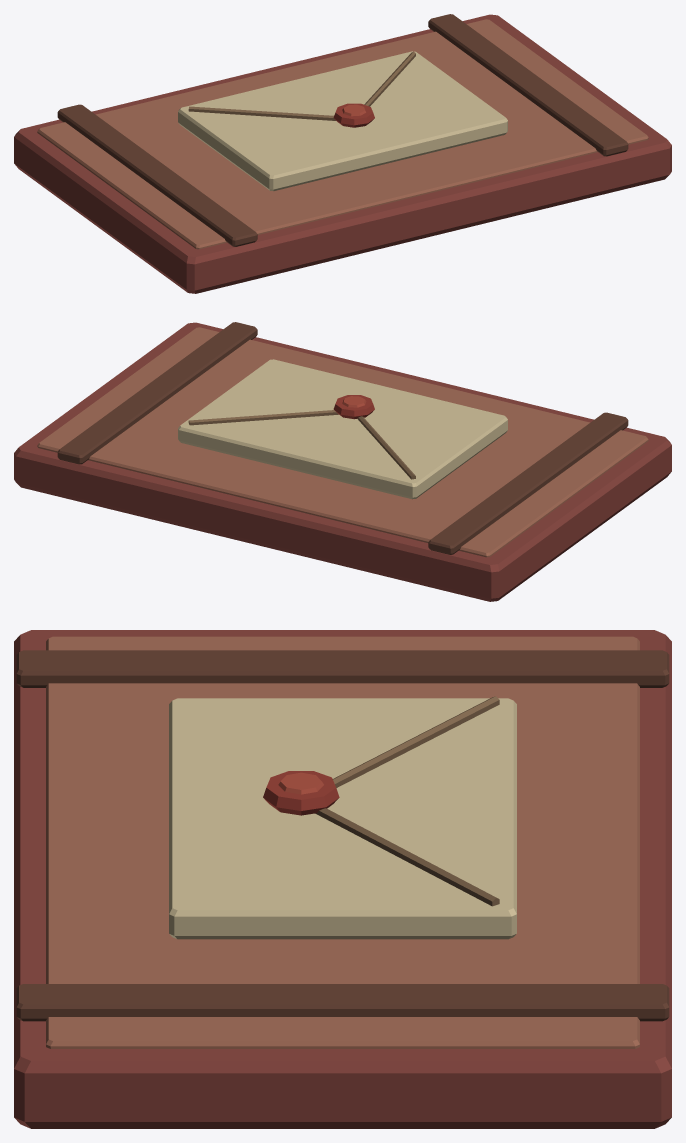
The model's file is post_case_lid.glb.
3 views of the same model, one above another, from view 1: azimuth 30°, elevation 25°; view 2: azimuth 150°, elevation 25°; view 3: azimuth 270°, elevation 25° (orthographic). The views are drawn at different scales.
Parts seen in each view (by area): view 1: post_case_lid; view 2: post_case_lid; view 3: post_case_lid.
Part boxes in pixels (<box>): post_case_lid: <box>14,14,671,293</box>; post_case_lid: <box>14,322,671,601</box>; post_case_lid: <box>14,630,671,1128</box>.
Size of the model in its own units: 0.772 by 0.109 by 0.492.
